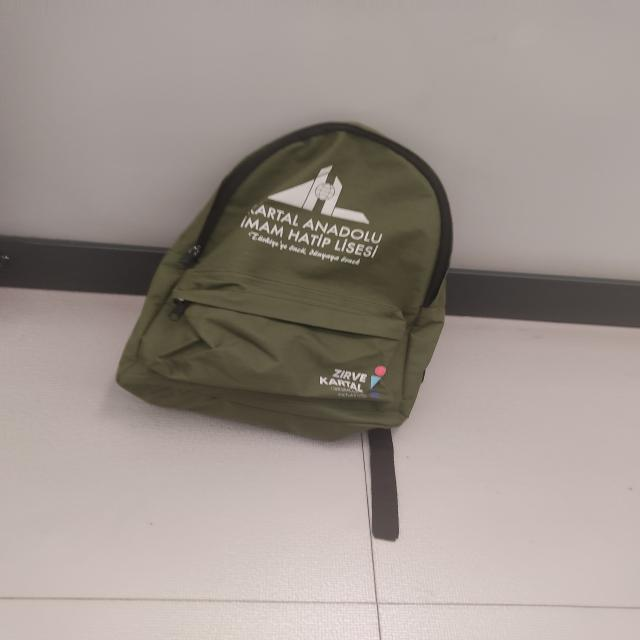bag: (114, 116, 491, 443)
